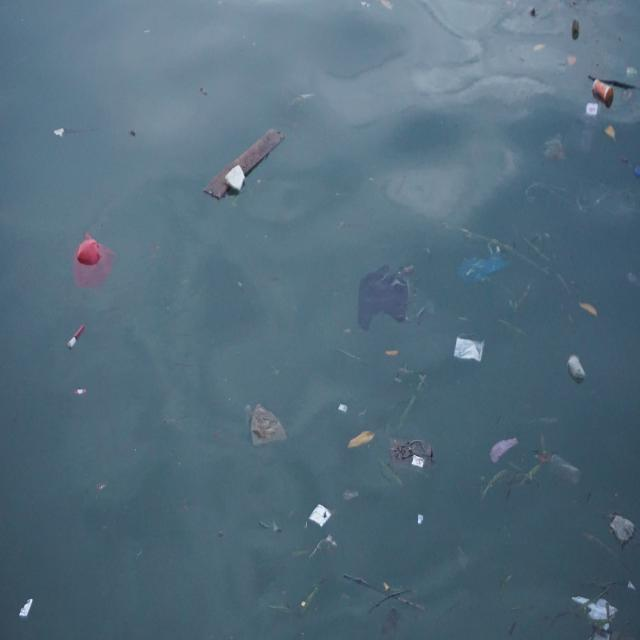Bungkus Makanan: (455, 328, 487, 371), (308, 499, 334, 533)
Bungkus Minuman: (545, 448, 588, 491), (591, 74, 616, 111), (565, 352, 589, 388)
Kantong Plastik: (358, 260, 413, 333), (71, 226, 118, 292), (248, 398, 289, 454), (460, 247, 511, 287)
